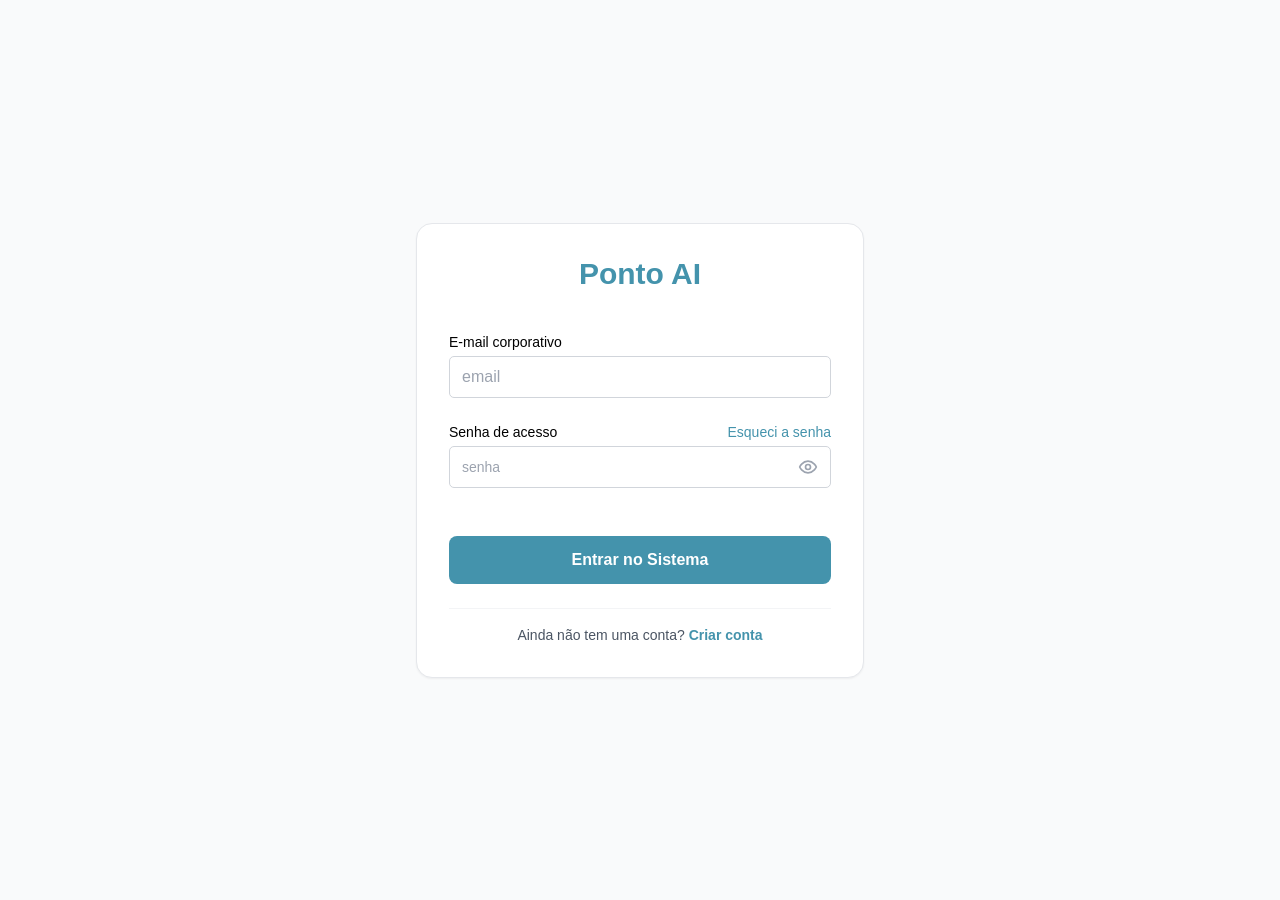
Test: Página de Login › deve abrir o modal de Criar Conta ao clicar no botão correspondente
Click the button "Criar conta": (726, 634) top-left (689, 624), bottom-right (763, 644)
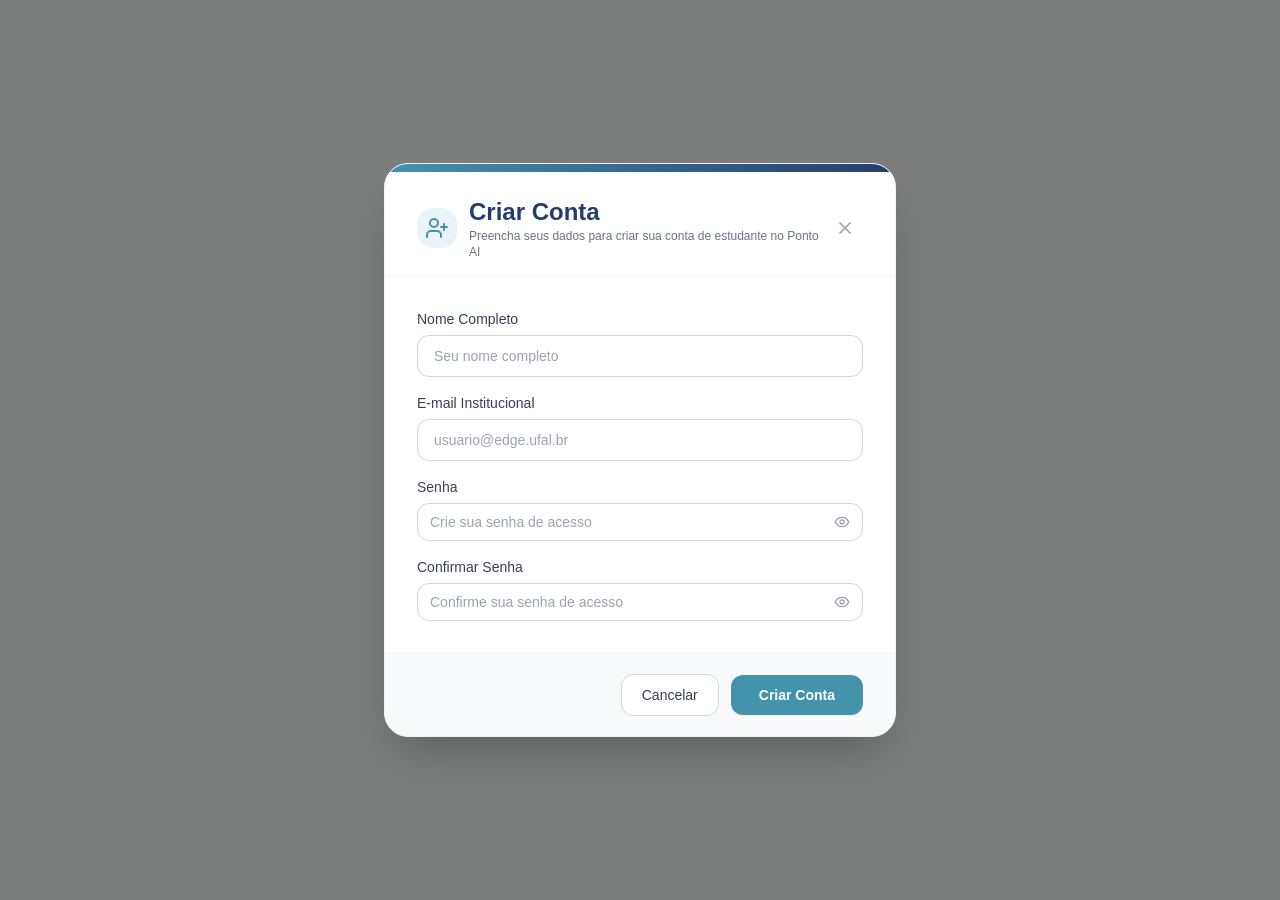
expect the text "Preencha seus dados para criar sua conta de estudante no Ponto AI" is shown: met, box top-left (469, 228), bottom-right (828, 260)
